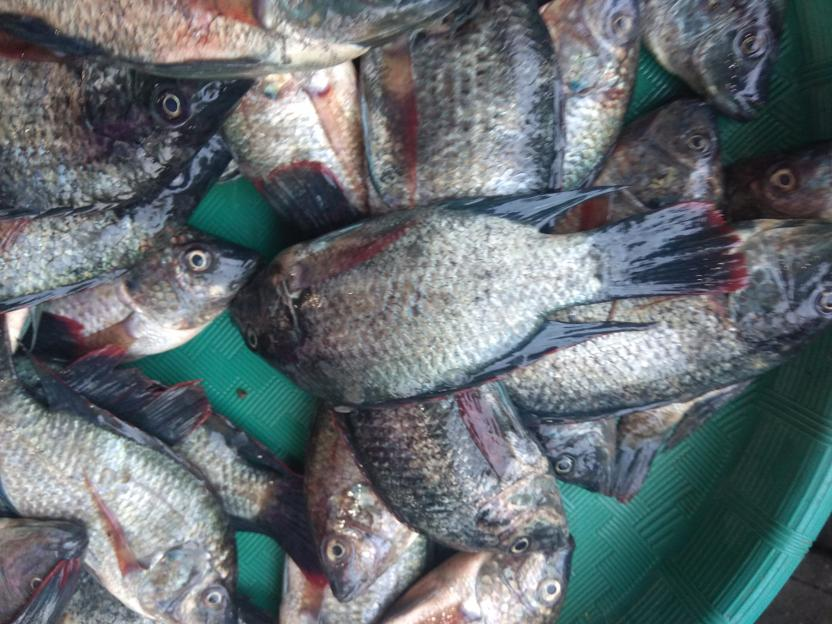Fish head: (99, 53, 254, 173), (122, 221, 264, 328), (652, 1, 774, 122), (610, 98, 727, 213), (729, 220, 832, 339), (309, 483, 410, 604), (541, 1, 642, 95), (227, 256, 307, 374), (1, 514, 88, 620), (475, 535, 578, 624), (136, 539, 238, 623), (472, 473, 570, 554), (536, 419, 620, 499), (749, 140, 832, 219)
Fish tail: (588, 200, 750, 299), (258, 472, 327, 587), (260, 159, 357, 240), (58, 344, 157, 417), (135, 381, 214, 444)
